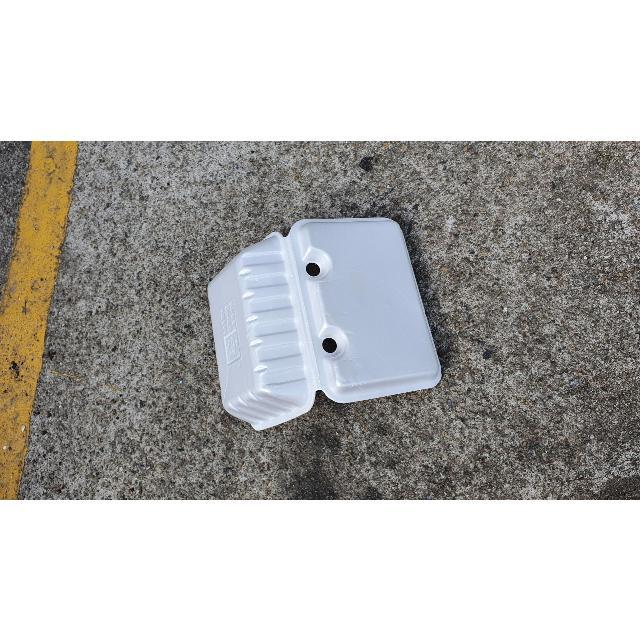Plastico descartable: (209, 218, 443, 431)
